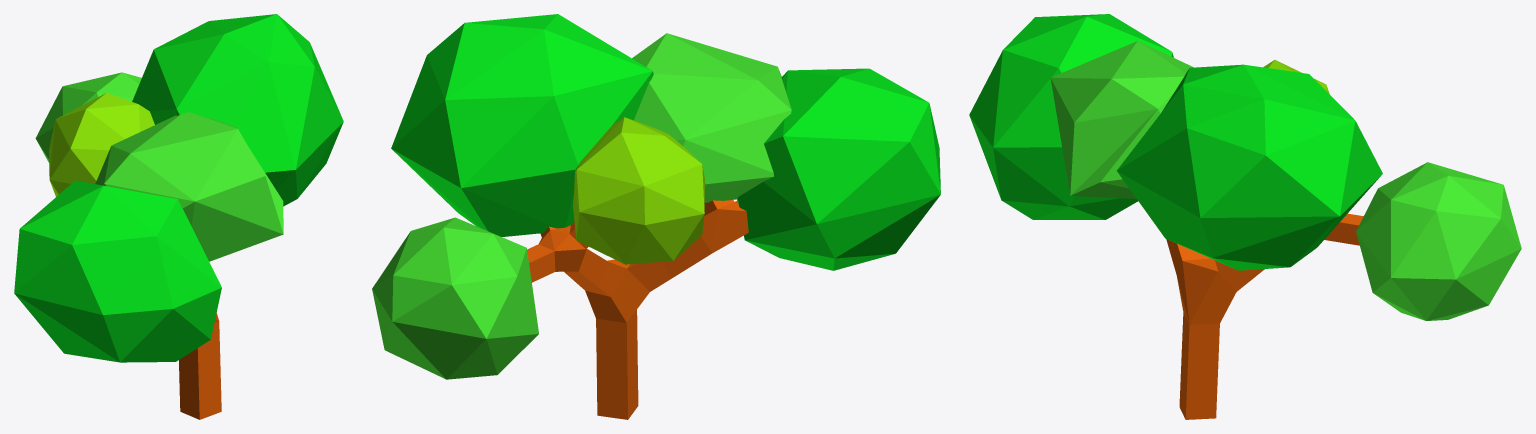
Rendered from drzewo12.fbx.
3 views of the same model, side by side, from view 1: azimuth 30°, elevation 25°; view 2: azimuth 150°, elevation 25°; view 3: azimuth 270°, elevation 25° (orthographic). The views are drawn at different scales.
Visible parts, largest first — view 1: liscie.001, liscie.002, liscie, liscie.003, Drzewo, liscie.004; view 2: liscie.002, liscie.001, liscie.004, liscie, liscie.003, Drzewo; view 3: liscie.002, liscie.004, liscie.001, liscie, Drzewo.
Boxes of the visible parts, box(x1,y1,x2,y2) form: liscie.001: box(14, 180, 221, 362); liscie.002: box(132, 14, 343, 206); liscie: box(95, 112, 283, 261); liscie.003: box(49, 93, 154, 196); Drzewo: box(179, 313, 221, 419); liscie.004: box(35, 72, 141, 162); liscie.002: box(391, 14, 653, 236); liscie.001: box(737, 68, 940, 270); liscie.004: box(372, 217, 538, 379); liscie: box(632, 33, 791, 202); liscie.003: box(573, 117, 705, 264); Drzewo: box(527, 200, 748, 419); liscie.002: box(1117, 64, 1382, 270); liscie.004: box(1356, 162, 1521, 320); liscie.001: box(969, 14, 1173, 219); liscie: box(1050, 41, 1193, 198); Drzewo: box(1166, 213, 1363, 419).
Size of the model in its own units: 889 by 777 by 1046.
